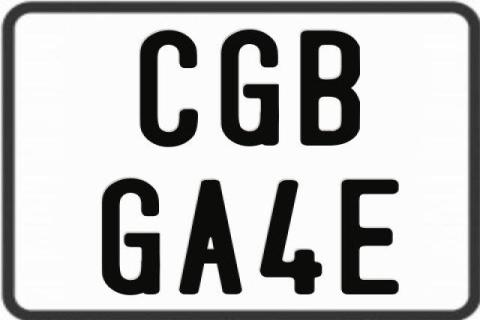0: (257, 178, 323, 292)
A: (179, 178, 247, 294)
B: (298, 30, 359, 148)
C: (140, 28, 198, 147)
E: (341, 177, 403, 293)
G: (220, 28, 279, 148), (101, 179, 160, 299)
